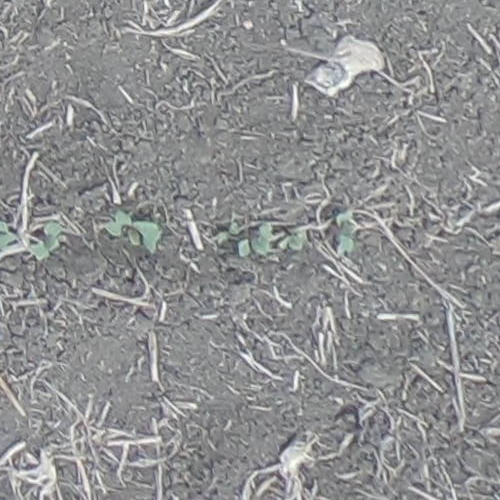isolated: (106, 212, 159, 253), (253, 222, 308, 253), (32, 222, 64, 261), (335, 213, 357, 253), (0, 219, 13, 246)
